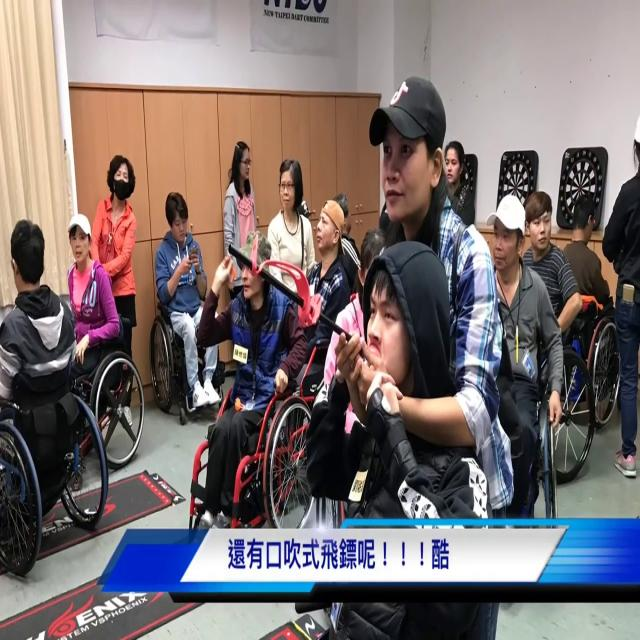wheelchairs: (176, 364, 317, 532), (0, 364, 107, 574), (135, 276, 229, 432), (62, 330, 150, 483)
